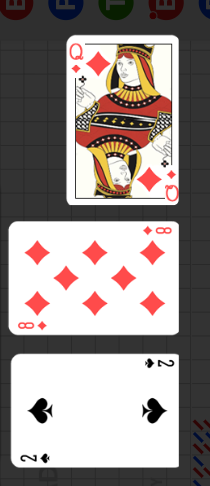2S: (142, 357, 176, 370)
8D: (141, 225, 173, 236)
9D: (68, 41, 84, 75)
